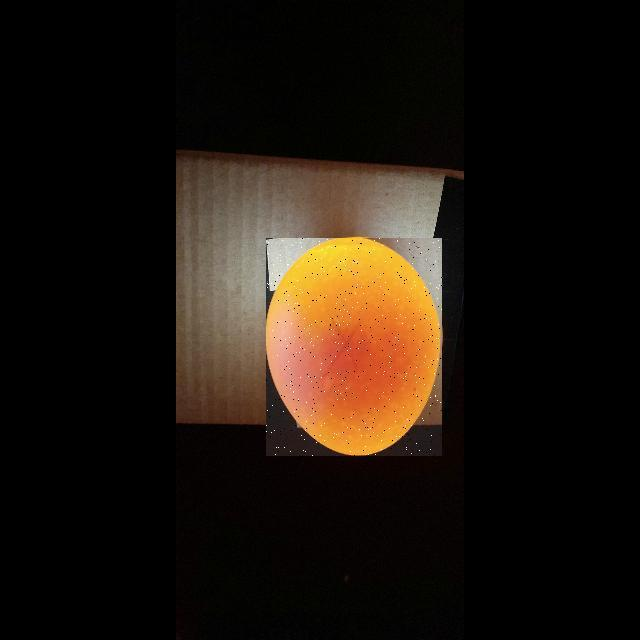Inedible: (266, 236, 439, 456)
